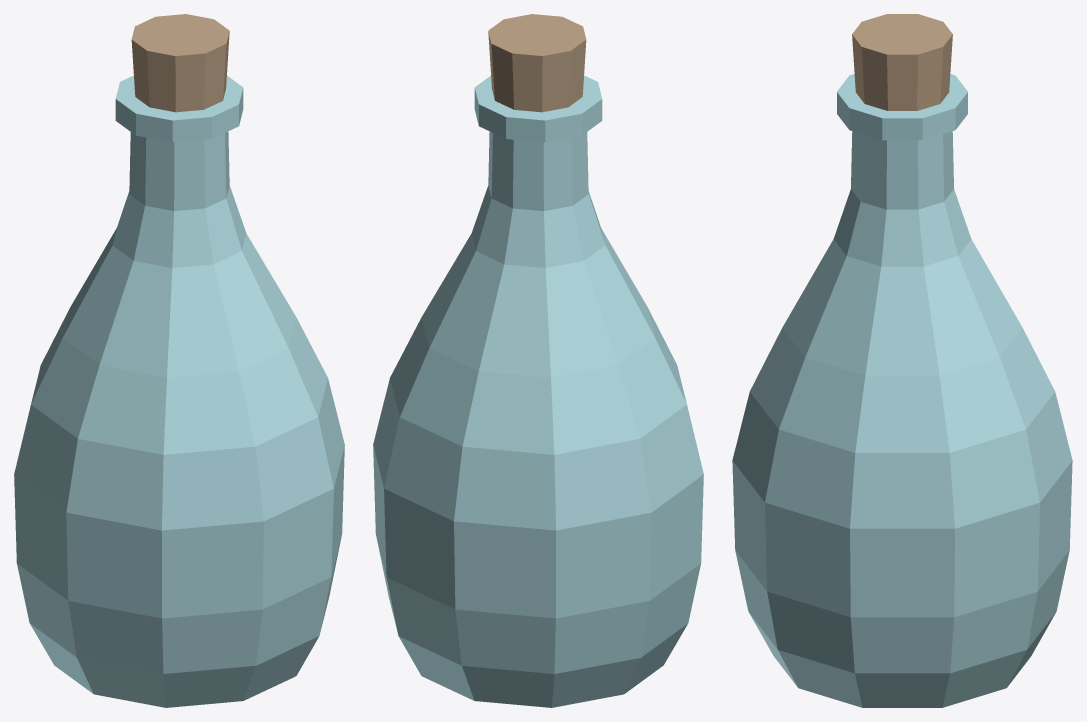
The model's file is Bottle_06.fbx.
3 renders of one model, left to right at view 1: azimuth 30°, elevation 25°; view 2: azimuth 150°, elevation 25°; view 3: azimuth 270°, elevation 25°, orthographic.
Visible parts, largest first — view 1: Bottle_06; view 2: Bottle_06; view 3: Bottle_06.
Part boxes in pixels (x1,y1,x2,y2): Bottle_06: [14, 14, 344, 707]; Bottle_06: [373, 14, 703, 707]; Bottle_06: [732, 14, 1072, 707].
Size of the model in its own units: 3.25 by 6.9 by 3.42.
